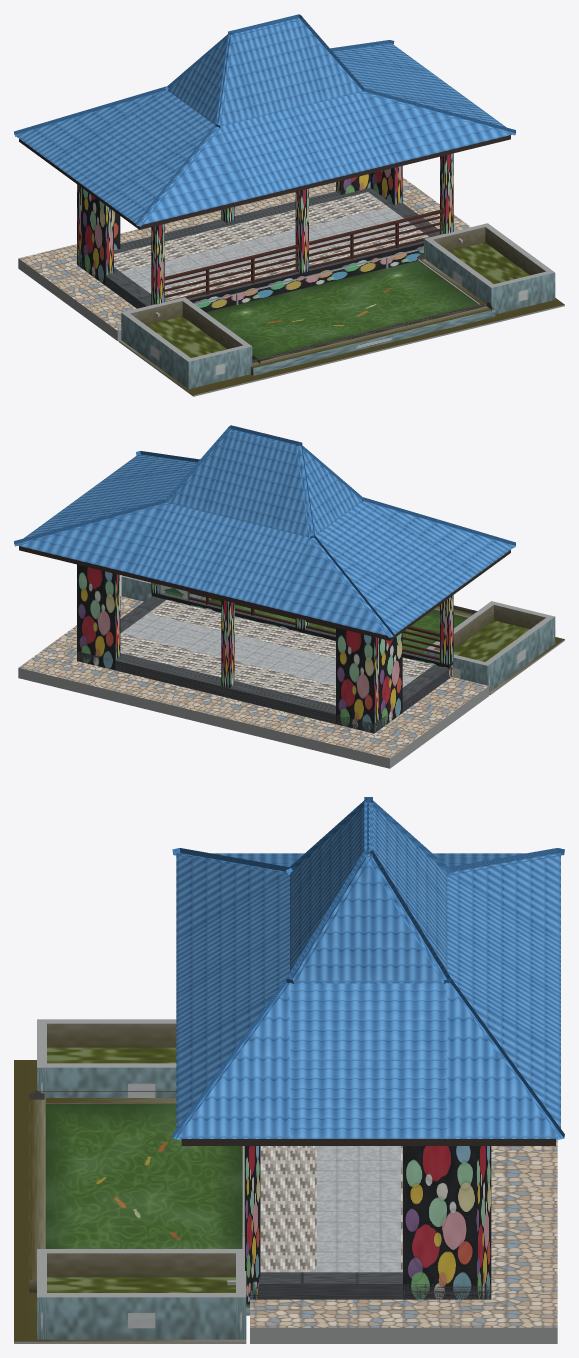
The model's file is joglo_kolam_ikan_web.glb.
The picture shows the model from 3 angles, top to bottom: view 1: azimuth 30°, elevation 25°; view 2: azimuth 150°, elevation 25°; view 3: azimuth 270°, elevation 25°; orthographic projection. The views are drawn at different scales.
Parts seen in each view (by area): view 1: Joglo_Kolam_Ikan; view 2: Joglo_Kolam_Ikan; view 3: Joglo_Kolam_Ikan.
Part boxes in pixels (x1,y1,x2,y2): Joglo_Kolam_Ikan: [14, 14, 564, 396]; Joglo_Kolam_Ikan: [14, 425, 564, 768]; Joglo_Kolam_Ikan: [14, 797, 564, 1343].
Bounding box in the file's own units: 10.75 × 6.59 × 8.68.
Materials: 1 (1 with a texture image).
